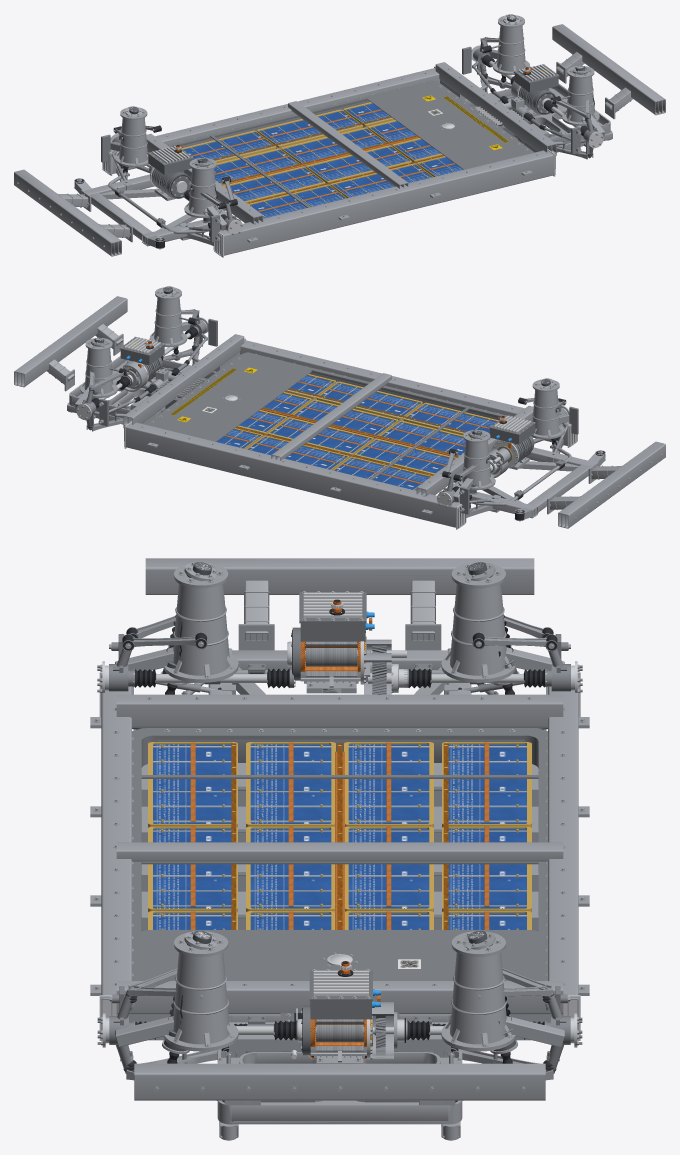
File: voyah-passion-s-xray.glb
3 views of the same model, one above another, from view 1: azimuth 30°, elevation 25°; view 2: azimuth 150°, elevation 25°; view 3: azimuth 270°, elevation 25° (orthographic). The views are drawn at different scales.
Parts seen in each view (by area): view 1: XR_Frame_Floor, XR_Battery, XR_Battery_Lid, XR_Frame_CrashF, XR_Frame_CrashR, XR_Frame_SubR, XR_Battery_Busbars, XR_Susp_RL_Tower, XR_Susp_RR_Tower, XR_Susp_FL_Tower, XR_Frame_SubF, XR_Susp_FR_Tower (+12 smaller); view 2: XR_Frame_Floor, XR_Battery, XR_Battery_Lid, XR_Frame_CrashF, XR_Frame_CrashR, XR_Frame_SubR, XR_Battery_Busbars, XR_Susp_FR_Tower, XR_Susp_RR_Tower, XR_Susp_RL_Tower, XR_Susp_FL_Tower, XR_Frame_SubF (+13 smaller); view 3: XR_Battery, XR_Frame_Floor, XR_Battery_Lid, XR_Frame_CrashF, XR_Frame_CrashR, XR_Frame_SubF, XR_Susp_FL_Tower, XR_Susp_FR_Tower, XR_Susp_RL_Tower, XR_Susp_RR_Tower, XR_Battery_Busbars, XR_Battery_Tray (+25 smaller).
Boxes of the visible parts, bbox=[...] form: XR_Frame_Floor: bbox=[102, 62, 556, 257]; XR_Battery: bbox=[181, 102, 463, 217]; XR_Battery_Lid: bbox=[167, 80, 534, 218]; XR_Frame_CrashF: bbox=[552, 24, 665, 119]; XR_Frame_CrashR: bbox=[14, 169, 132, 256]; XR_Frame_SubR: bbox=[74, 174, 240, 249]; XR_Battery_Busbars: bbox=[191, 109, 454, 211]; XR_Susp_RL_Tower: bbox=[110, 107, 148, 167]; XR_Susp_RR_Tower: bbox=[184, 158, 226, 230]; XR_Susp_FL_Tower: bbox=[488, 15, 530, 74]; XR_Frame_SubF: bbox=[463, 83, 612, 152]; XR_Susp_FR_Tower: bbox=[562, 65, 604, 136]; XR_Frame_Floor: bbox=[123, 334, 577, 529]; XR_Battery: bbox=[216, 374, 498, 490]; XR_Battery_Lid: bbox=[145, 352, 511, 490]; XR_Frame_CrashF: bbox=[14, 296, 127, 391]; XR_Frame_CrashR: bbox=[547, 441, 665, 528]; XR_Frame_SubR: bbox=[439, 447, 605, 521]; XR_Battery_Busbars: bbox=[224, 381, 489, 483]; XR_Susp_FR_Tower: bbox=[149, 287, 191, 347]; XR_Susp_RR_Tower: bbox=[531, 379, 569, 439]; XR_Susp_RL_Tower: bbox=[453, 430, 495, 502]; XR_Susp_FL_Tower: bbox=[75, 337, 117, 408]; XR_Frame_SubF: bbox=[67, 356, 216, 424]; XR_Battery: bbox=[148, 742, 531, 929]; XR_Frame_Floor: bbox=[90, 672, 589, 1040]; XR_Battery_Lid: bbox=[132, 728, 547, 980]; XR_Frame_CrashF: bbox=[134, 1063, 545, 1105]; XR_Frame_CrashR: bbox=[145, 558, 534, 650]; XR_Frame_SubF: bbox=[217, 1014, 462, 1140]; XR_Susp_FL_Tower: bbox=[441, 931, 564, 1051]; XR_Susp_FR_Tower: bbox=[115, 931, 238, 1051]; XR_Susp_RL_Tower: bbox=[441, 562, 564, 682]; XR_Susp_RR_Tower: bbox=[115, 562, 238, 682]; XR_Battery_Busbars: bbox=[190, 742, 489, 929]; XR_Battery_Tray: bbox=[141, 738, 538, 931].
Size of the model in its own units: 4.63 by 0.688 by 1.8.
Materials: 29 (12 with a texture image).
